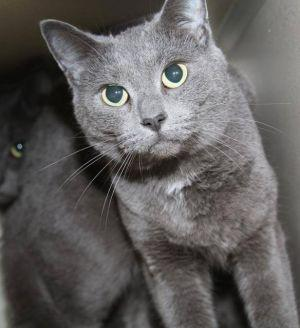rblue: (34, 1, 244, 198)
